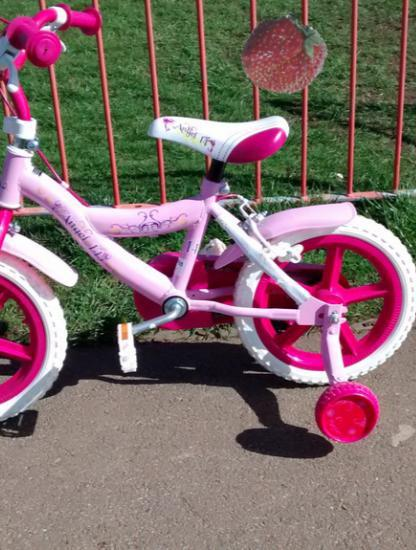Strawberry: (242, 10, 328, 96)
